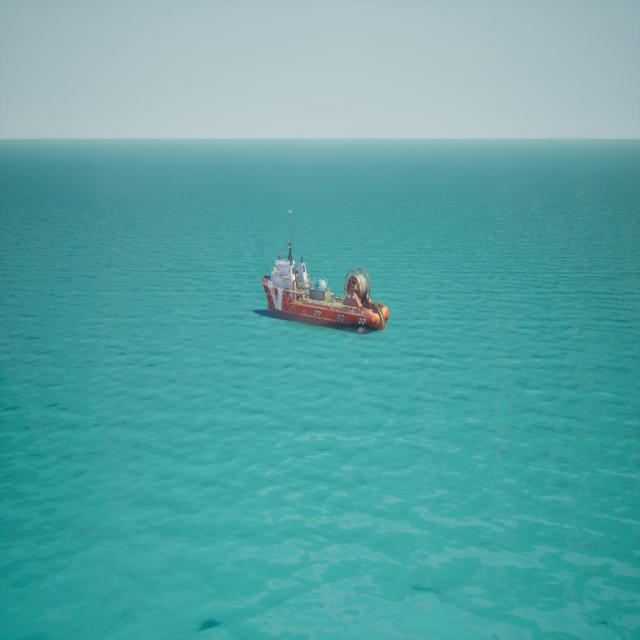tug boat: (256, 220, 389, 339)
